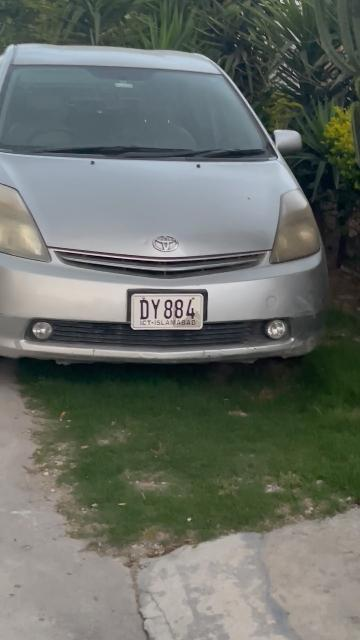plate: (130, 289, 206, 329)
